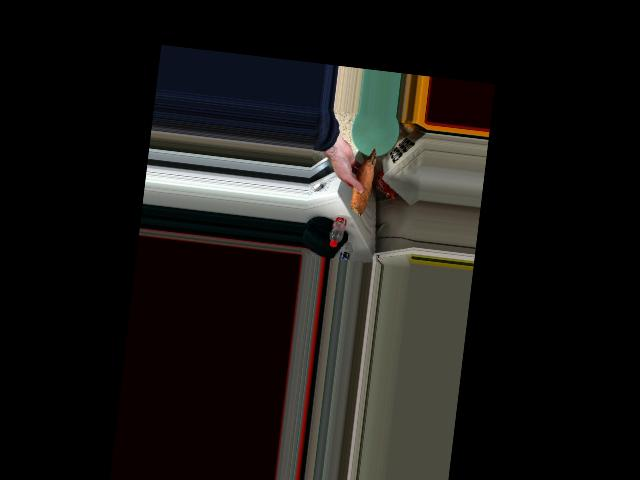sweet_potato: (350, 145, 377, 212)
